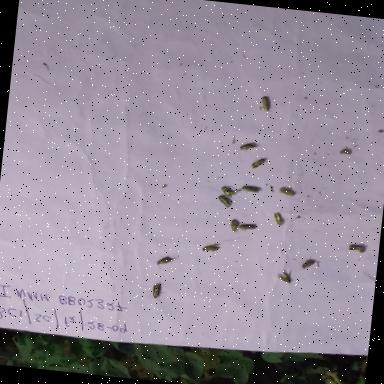pbw: (252, 91, 278, 117), (274, 266, 297, 292), (342, 238, 368, 260), (145, 281, 169, 304), (152, 252, 178, 272), (212, 193, 237, 213), (198, 240, 222, 258), (249, 156, 274, 172), (238, 140, 264, 155), (219, 185, 242, 201), (276, 185, 302, 199), (271, 210, 290, 228), (299, 256, 318, 274), (238, 184, 264, 196), (237, 221, 260, 234), (225, 218, 240, 236)
